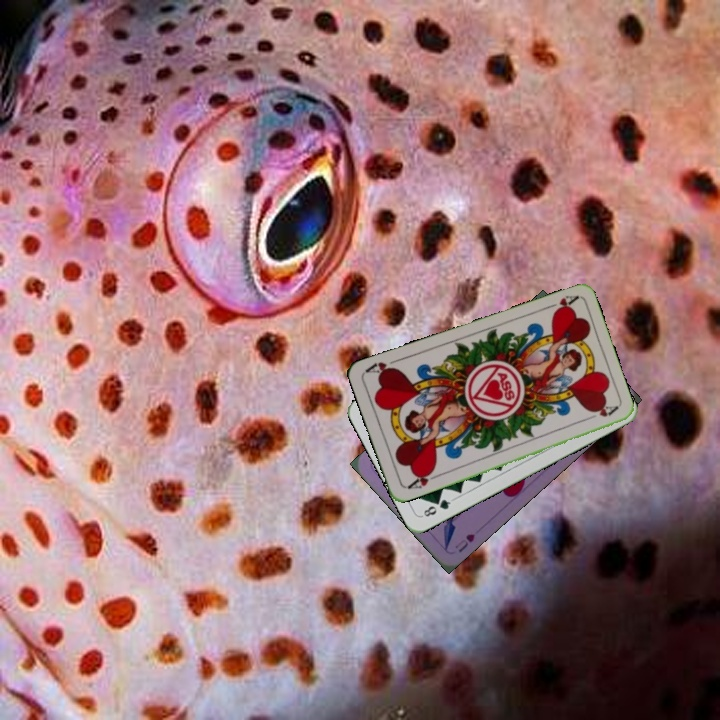G8: (417, 495, 455, 519)
HA: (540, 291, 580, 317), (403, 466, 442, 492)
HU: (450, 529, 478, 555)
